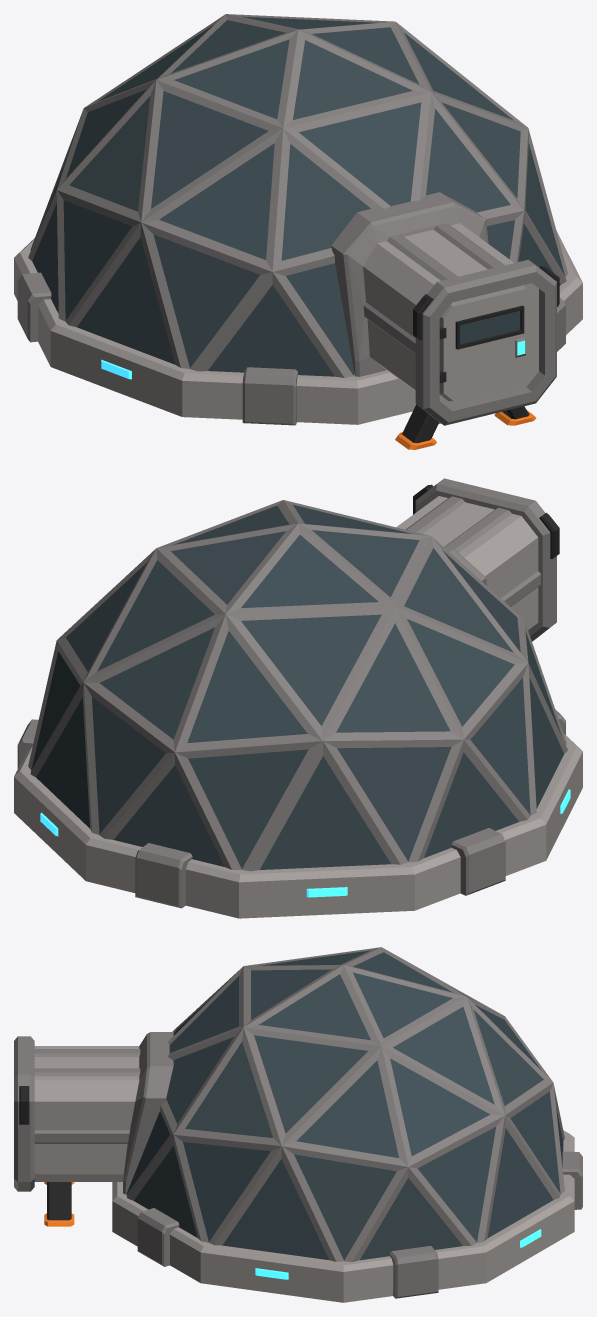
File: scifi_scifi-planet-base-greenhouse.fbx
3 renders of one model, top to bottom at view 1: azimuth 30°, elevation 25°; view 2: azimuth 150°, elevation 25°; view 3: azimuth 270°, elevation 25°, orthographic. The views are drawn at different scales.
Visible parts, largest first — view 1: scifi_scifi_planet_base_greenhouse; view 2: scifi_scifi_planet_base_greenhouse; view 3: scifi_scifi_planet_base_greenhouse.
Part boxes in pixels (<box>): scifi_scifi_planet_base_greenhouse: <box>14,14,582,449</box>; scifi_scifi_planet_base_greenhouse: <box>14,478,582,918</box>; scifi_scifi_planet_base_greenhouse: <box>14,947,582,1302</box>.
Bounding box in the file's own units: 171 × 91.22 × 200.
